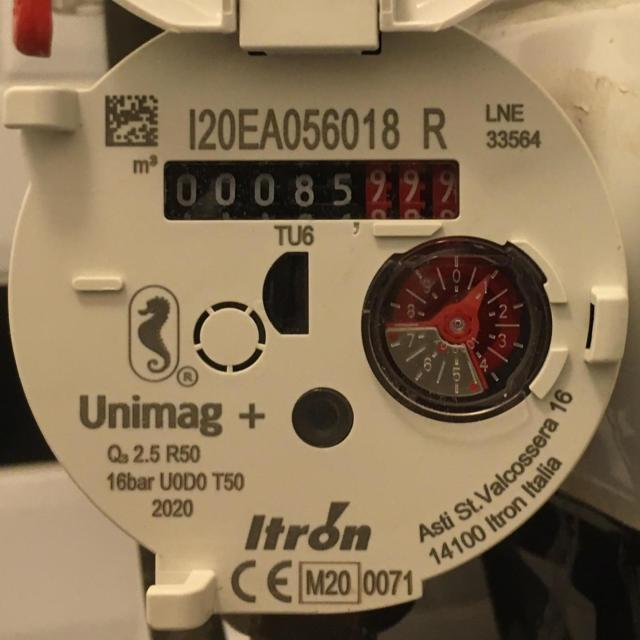gaz_meter: (7, 15, 634, 552)
indication: (163, 158, 456, 222)
